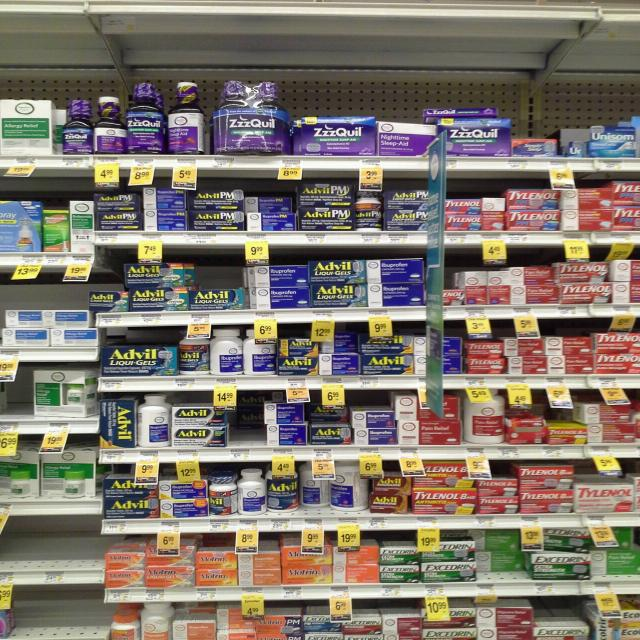void: (20, 588, 101, 640), (7, 518, 54, 584), (65, 516, 98, 586)
